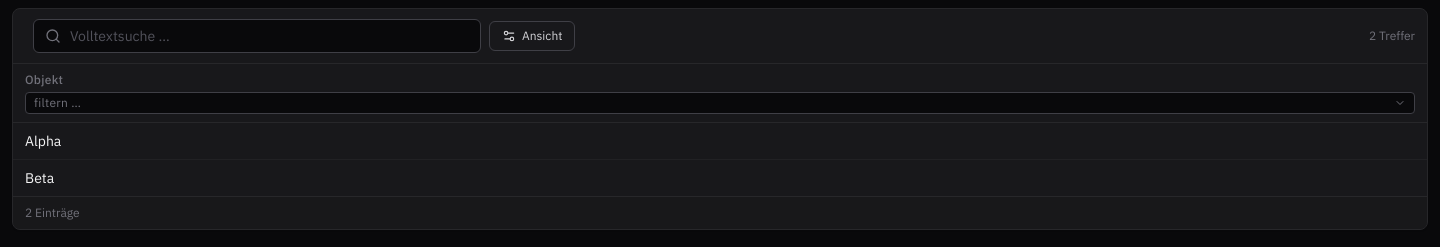
Test: RelationListTab › rendert die echte Liste und filtert per Volltextsuche
The width and height of the screenshot is (1440, 247).
Expected: the text "Alpha" is shown, [13, 122, 1427, 160]
Expected: the text "Beta" is shown, [13, 160, 1427, 196]
Type "alp" into the search field with placeholder "Volltextsuche …" at [257, 36], box [33, 19, 481, 53]
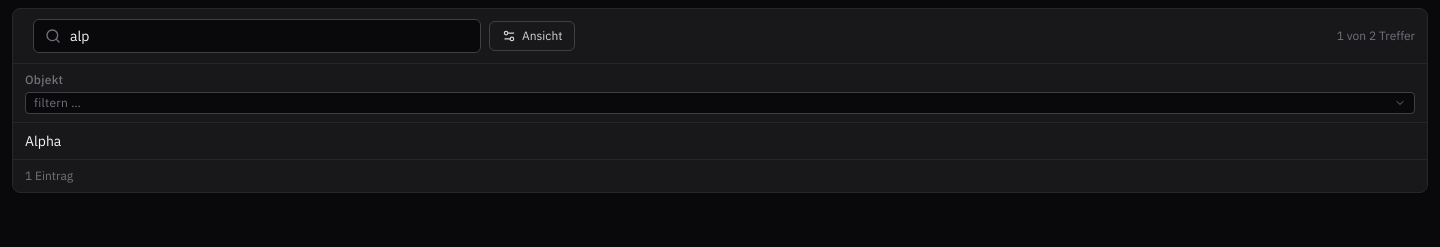
Expected: the text "Alpha" is shown, [13, 122, 1427, 159]
Expected: the text "Beta" is gone
